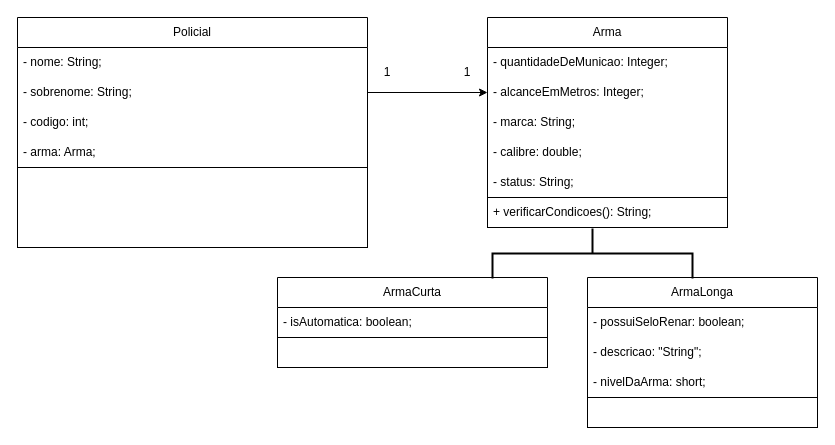
The diagram is 835 pixels wide and 445 high, and some of its shapes have lost their labels. The shapes that lost their labels are listed below. From the top down, each one's centre as x and y in pixels, then its label:
At (192,207): "+ Policial(String nome, String sobrenome, int codigo, Arma arma);".
At (412,352): "+ verificarDisparoDeLongaDistancia(): String;".
At (702,412): "+ compararArmasLongas(ArmaLonga o);".
